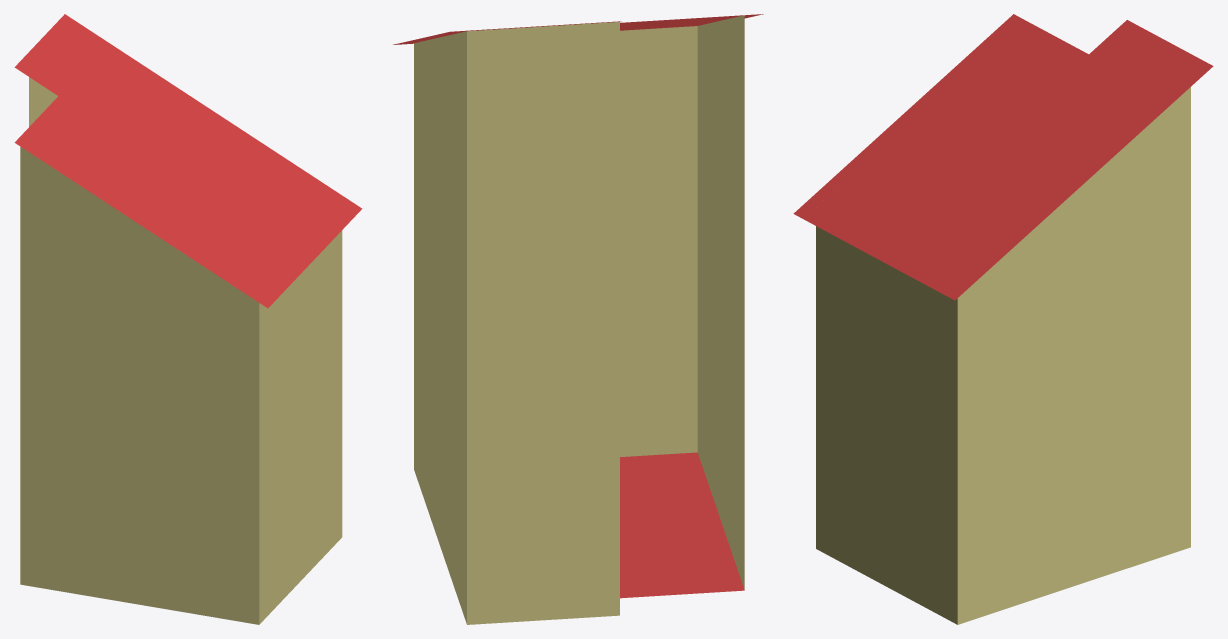
The picture shows the model from 3 angles, left to right: view 1: azimuth 30°, elevation 25°; view 2: azimuth 150°, elevation 25°; view 3: azimuth 270°, elevation 25°; orthographic projection. The views are drawn at different scales.
Size of the model in its own units: 5.89 by 6.53 by 8.27.
